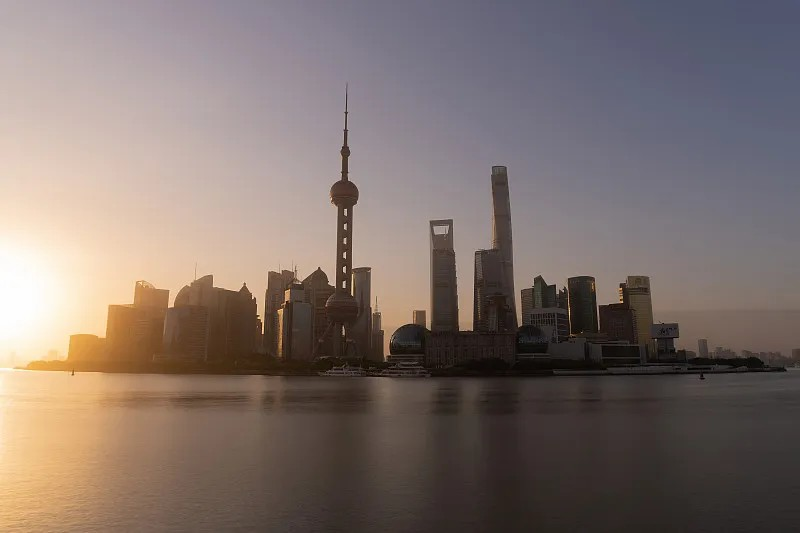Oriental: (312, 82, 363, 360)
